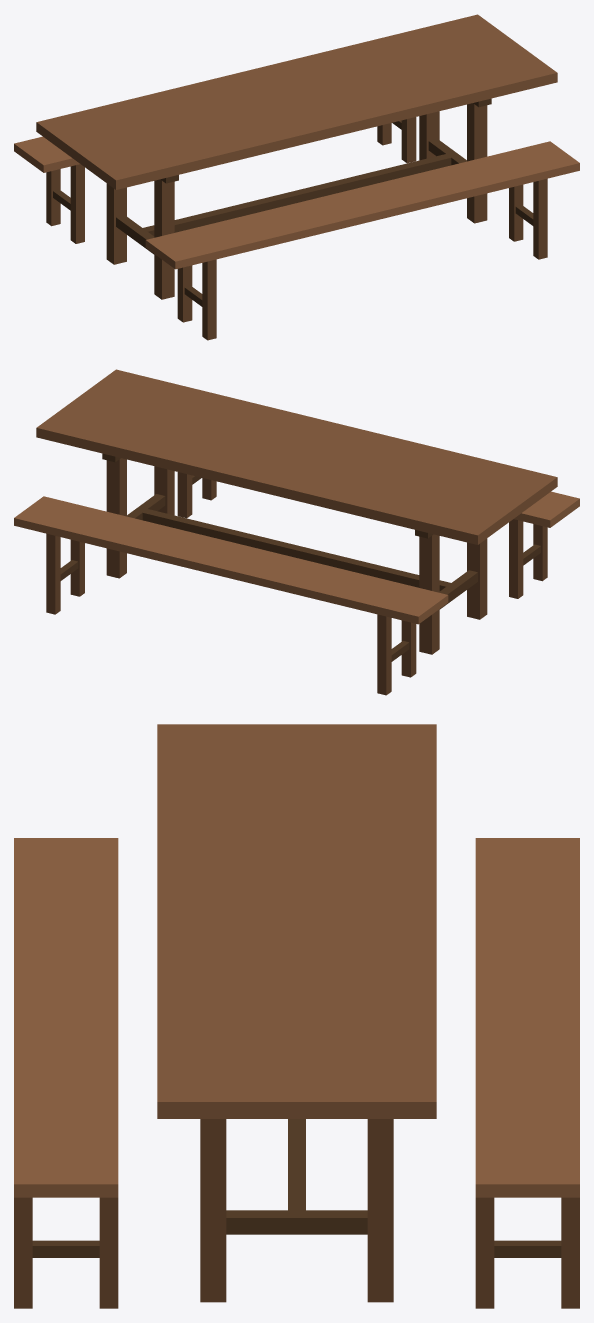
The model's file is hall-trestle.glb.
3 renders of one model, top to bottom at view 1: azimuth 30°, elevation 25°; view 2: azimuth 150°, elevation 25°; view 3: azimuth 270°, elevation 25°, orthographic. The views are drawn at different scales.
Visible parts, largest first — view 1: hall-trestle; view 2: hall-trestle; view 3: hall-trestle.
Boxes of the visible parts, box(x1,y1,x2,y2) form: hall-trestle: box(14, 14, 579, 340); hall-trestle: box(14, 369, 579, 695); hall-trestle: box(14, 724, 579, 1308).
Size of the model in its own units: 2.4 by 0.7401 by 1.52.
Materials: 1 (1 with a texture image).
